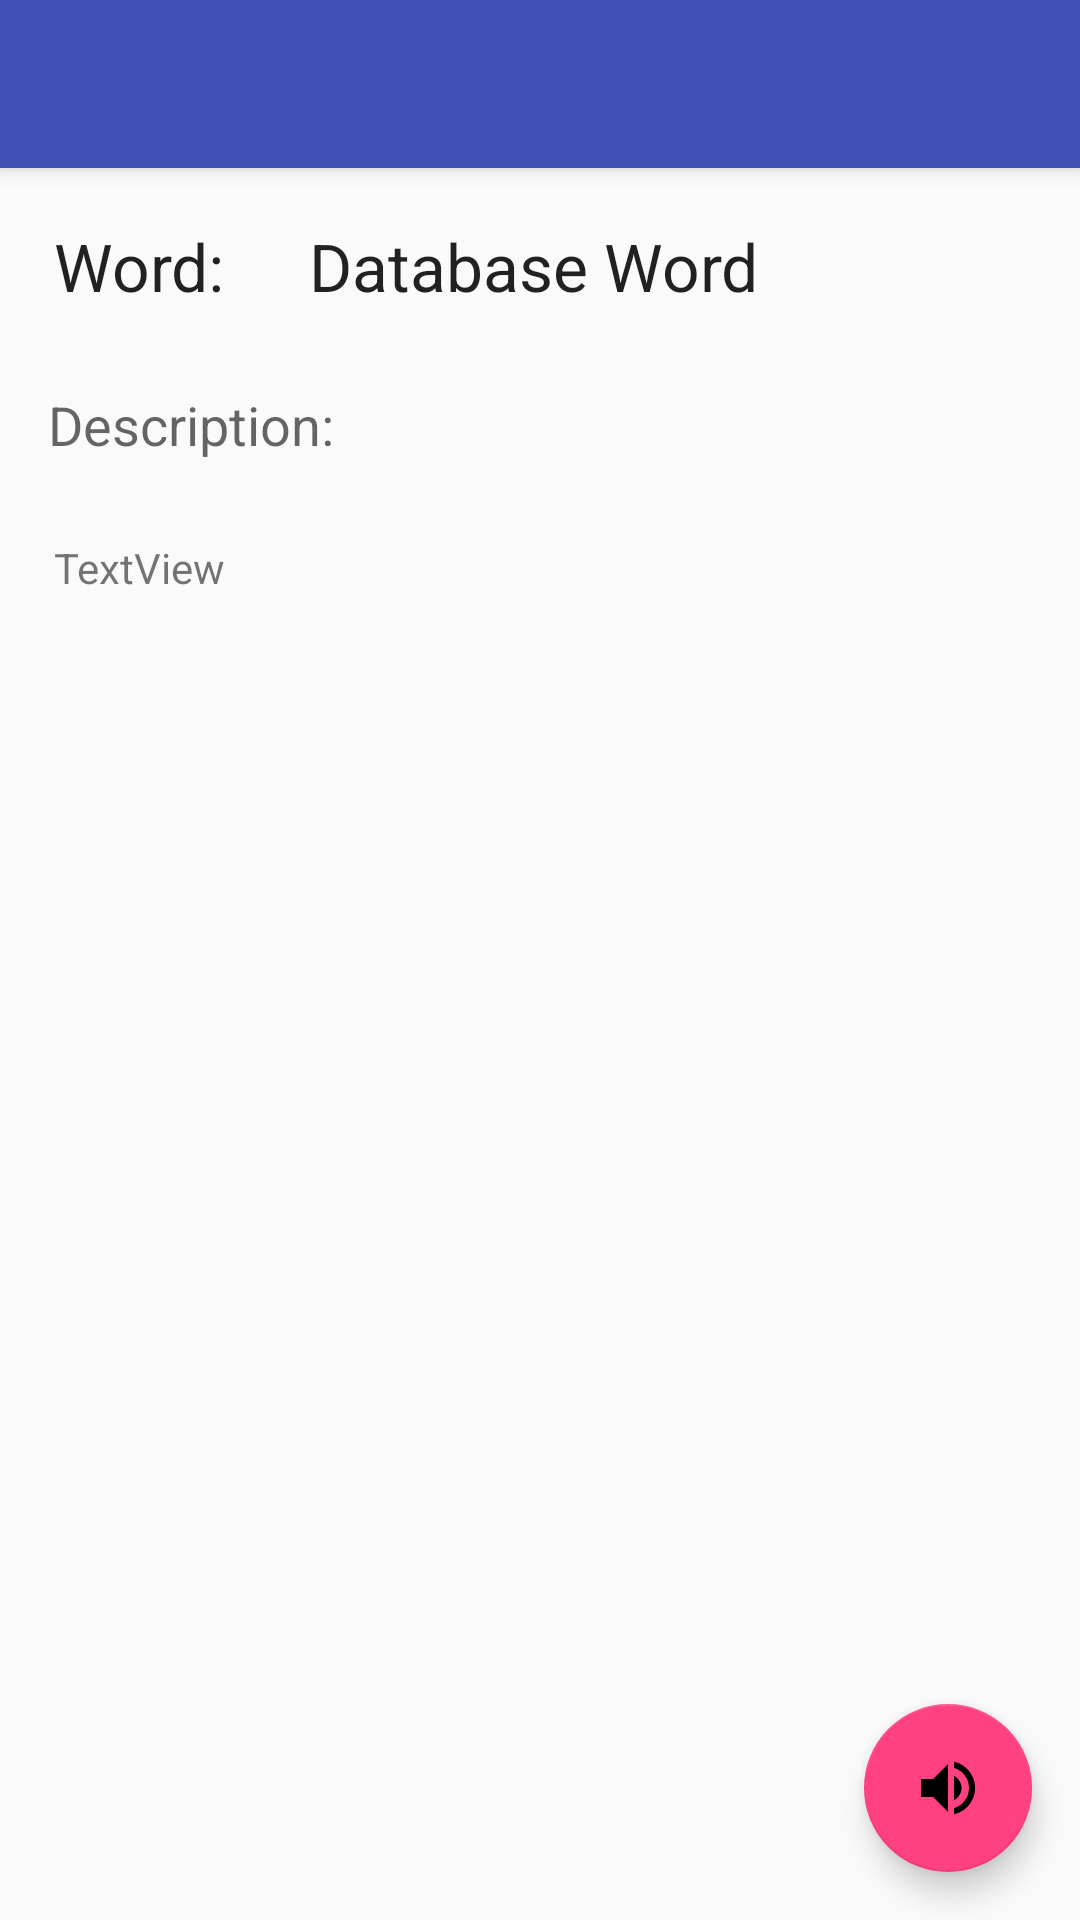

Icon click points for this 1080×1920 phone screenshot, format (x,y):
volume up: (948,1788)
